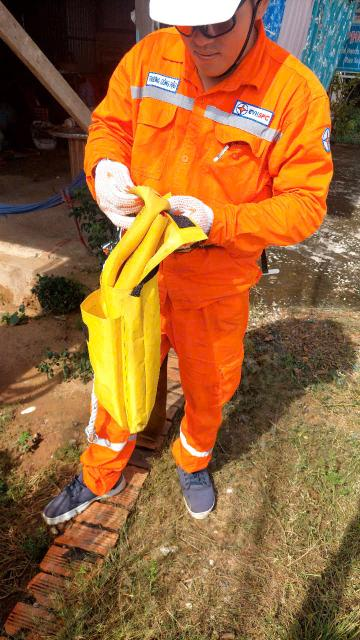gloves: (87, 147, 160, 263), (127, 189, 229, 261)
helmet: (124, 0, 290, 38)
shoes: (34, 464, 129, 528), (172, 442, 226, 523)
